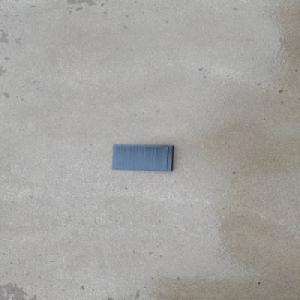PlasticPart: (110, 143, 175, 172)
